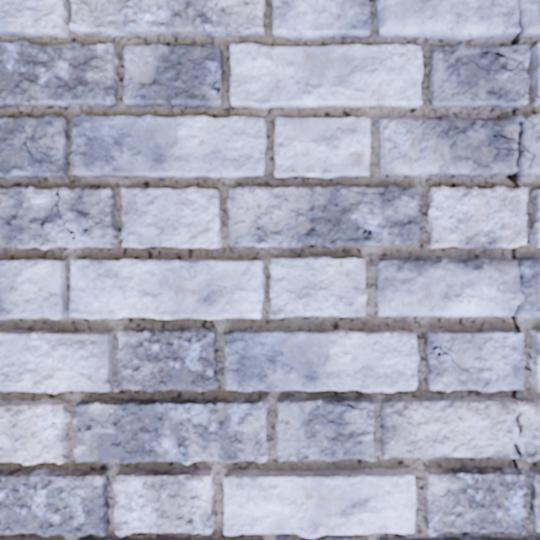brick: (224, 468, 415, 539), (72, 398, 268, 463), (230, 43, 421, 107), (71, 115, 266, 177), (227, 185, 419, 247), (225, 330, 418, 391), (70, 259, 264, 318), (0, 41, 119, 108), (0, 187, 118, 248), (0, 469, 109, 535), (429, 42, 539, 107), (70, 0, 265, 36), (0, 330, 113, 392), (113, 468, 214, 536), (423, 467, 525, 534), (276, 395, 374, 460), (425, 328, 525, 391), (123, 44, 222, 107), (427, 186, 526, 248), (116, 329, 216, 390), (121, 188, 220, 247), (270, 257, 366, 316), (275, 117, 369, 177), (0, 399, 70, 463), (0, 115, 69, 177), (0, 259, 66, 318), (273, 0, 369, 39), (0, 0, 68, 36), (530, 327, 539, 390), (530, 469, 539, 530), (530, 190, 539, 246), (79, 537, 205, 539), (276, 535, 296, 539), (0, 538, 34, 539)
broken_brick: (380, 395, 539, 462), (376, 256, 539, 317), (377, 114, 517, 176), (375, 0, 518, 40), (516, 113, 539, 177), (519, 0, 539, 37), (464, 534, 539, 539), (378, 535, 461, 539)
crack: (487, 108, 536, 188), (38, 187, 76, 240), (508, 0, 537, 46), (425, 342, 461, 371), (321, 414, 373, 427), (329, 398, 372, 411), (337, 184, 383, 195), (511, 246, 524, 282), (511, 439, 524, 468), (509, 303, 521, 331), (209, 80, 220, 95), (511, 388, 517, 399), (202, 45, 218, 49), (224, 368, 232, 376), (71, 152, 79, 159), (461, 530, 467, 539), (120, 237, 124, 243)
